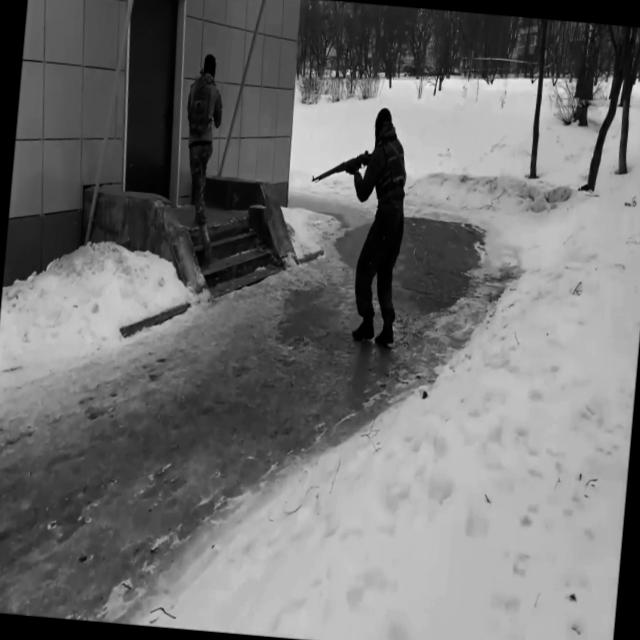gun: (310, 142, 376, 193)
person: (173, 52, 228, 262)
person with a gun: (296, 99, 415, 347)
